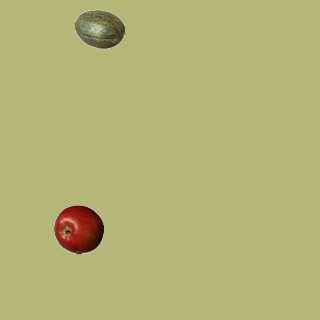Apple Braeburn: (53, 204, 103, 254)
Melon Piel de Sapo: (74, 4, 124, 54)
